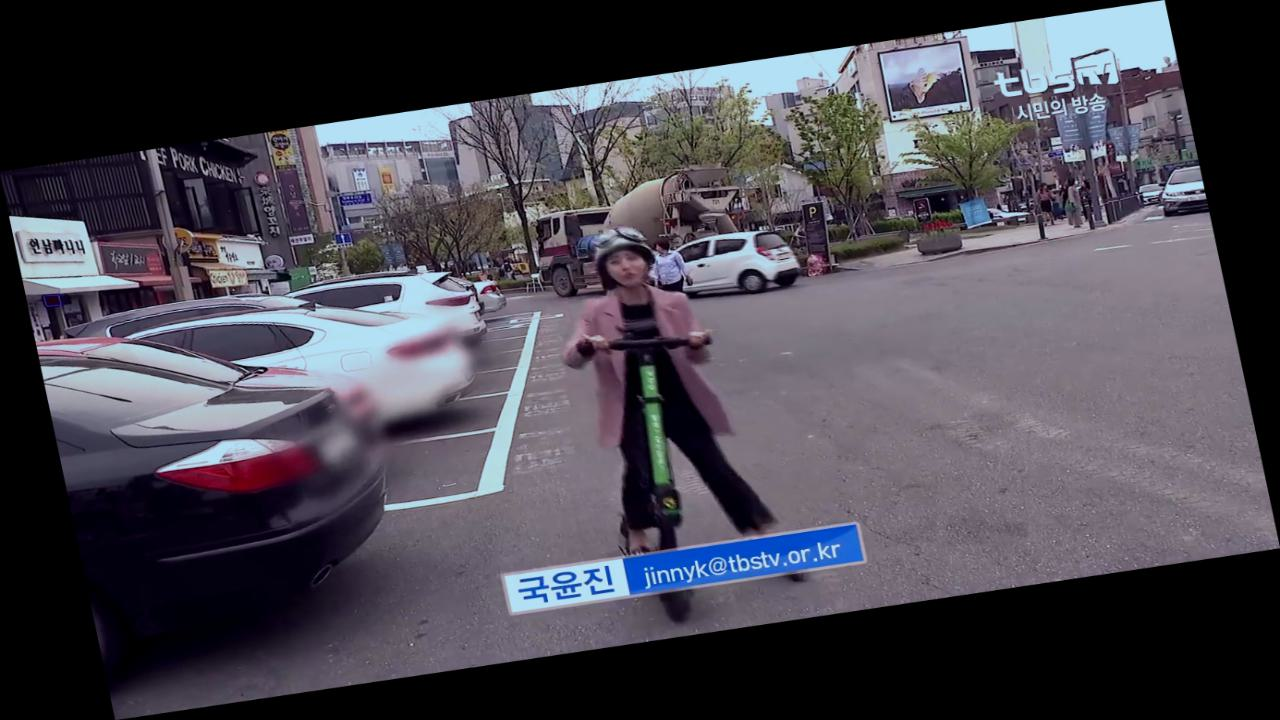helmet: (533, 209, 827, 635)
